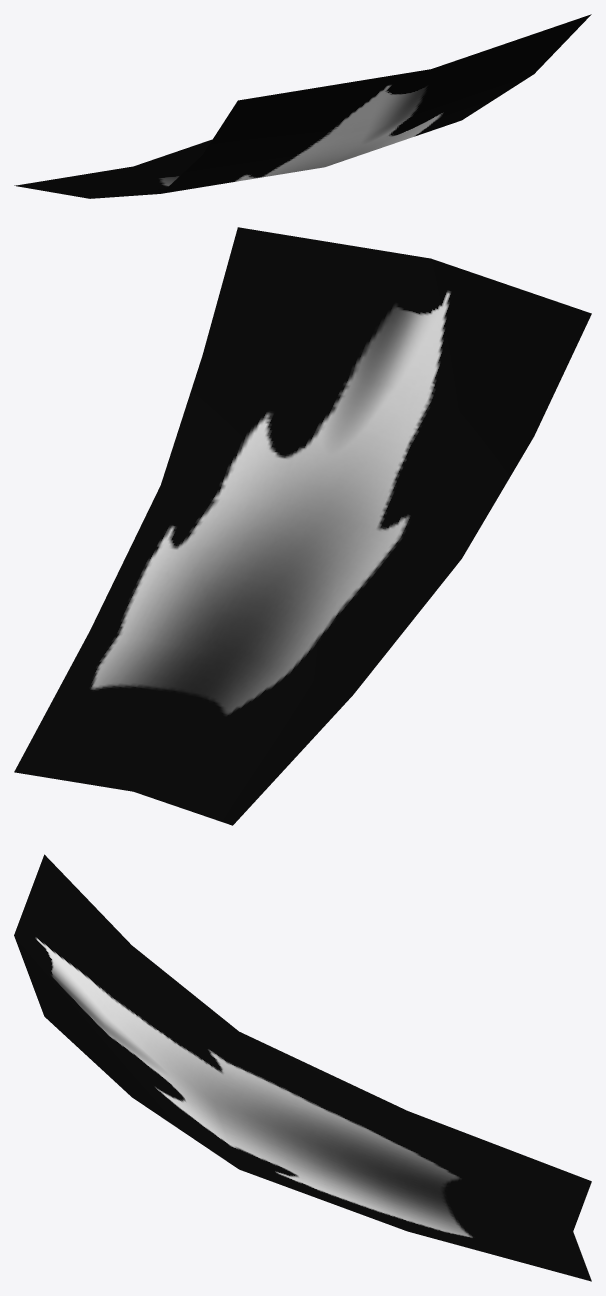
The model's file is SmokeMeshSingle.fbx.
3 views of the same model, one above another, from view 1: azimuth 30°, elevation 25°; view 2: azimuth 150°, elevation 25°; view 3: azimuth 270°, elevation 25° (orthographic). The views are drawn at different scales.
Visible parts, largest first — view 1: SmokeMeshSingle; view 2: SmokeMeshSingle; view 3: SmokeMeshSingle.
Boxes of the visible parts, left/top/right/bottom form: SmokeMeshSingle: left=14, top=14, right=591, bottom=198; SmokeMeshSingle: left=14, top=227, right=591, bottom=825; SmokeMeshSingle: left=14, top=854, right=591, bottom=1281.
Size of the model in its own units: 0.5878 by 0.5 by 0.8847.
